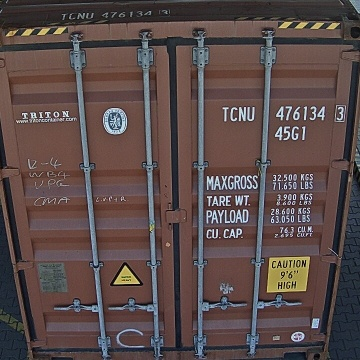serial_id: (223, 105, 345, 121)
